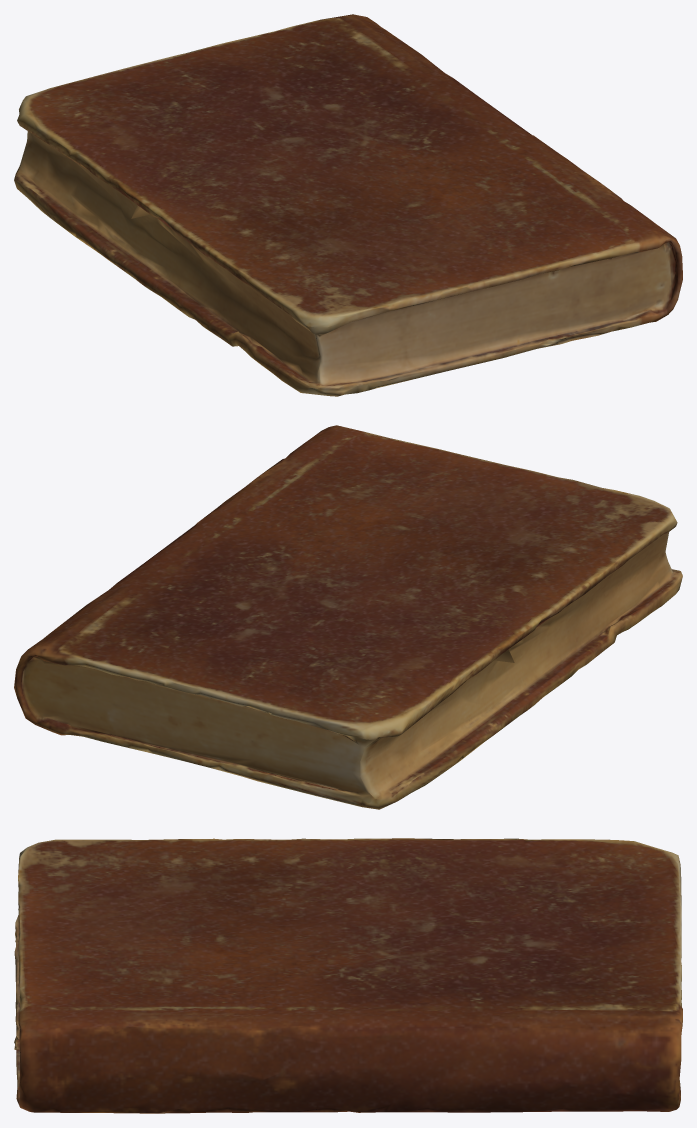
Rendered from SM_Prop_Book_G.fbx.
3 views of the same model, one above another, from view 1: azimuth 30°, elevation 25°; view 2: azimuth 150°, elevation 25°; view 3: azimuth 270°, elevation 25° (orthographic). The views are drawn at different scales.
Parts seen in each view (by area): view 1: SM_Prop_Book_G_LOD0; view 2: SM_Prop_Book_G_LOD0; view 3: SM_Prop_Book_G_LOD0.
Part boxes in pixels (<box>): SM_Prop_Book_G_LOD0: <box>14,14,682,396</box>; SM_Prop_Book_G_LOD0: <box>14,425,682,809</box>; SM_Prop_Book_G_LOD0: <box>14,838,682,1113</box>.
Size of the model in its own units: 23.46 by 33.32 by 5.2.
Materials: 1 (1 with a texture image).
